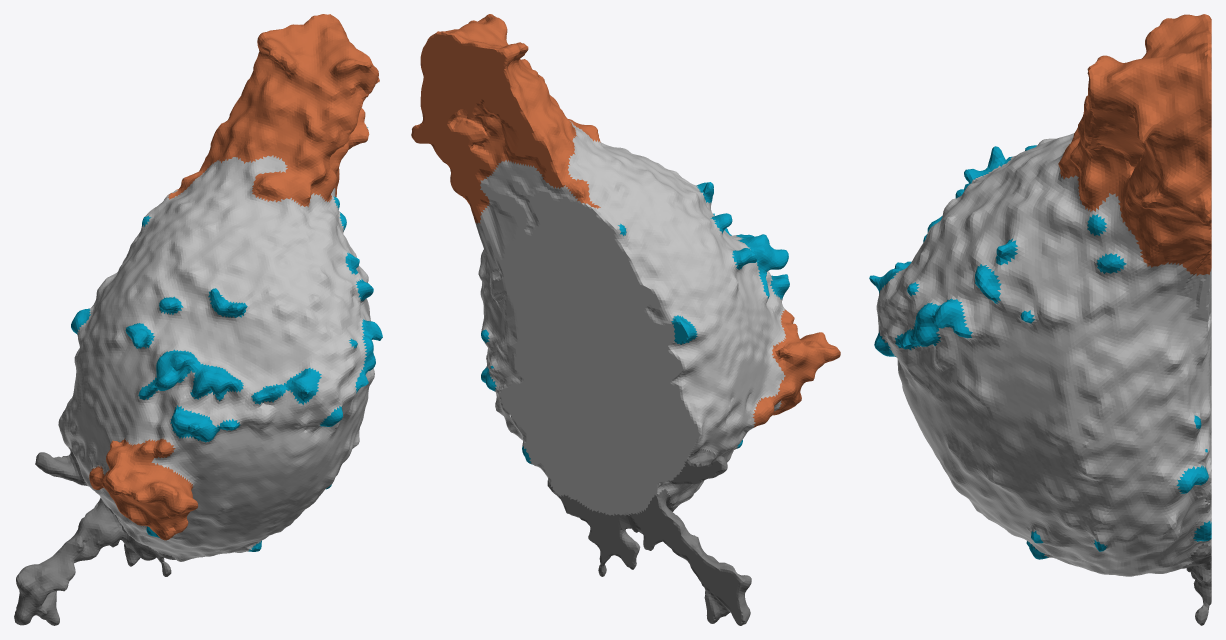
The picture shows the model from 3 angles, left to right: view 1: azimuth 30°, elevation 25°; view 2: azimuth 150°, elevation 25°; view 3: azimuth 270°, elevation 25°; orthographic projection. The views are drawn at different scales.
Bounding box in the file's own units: 111 × 167 × 73.64.
